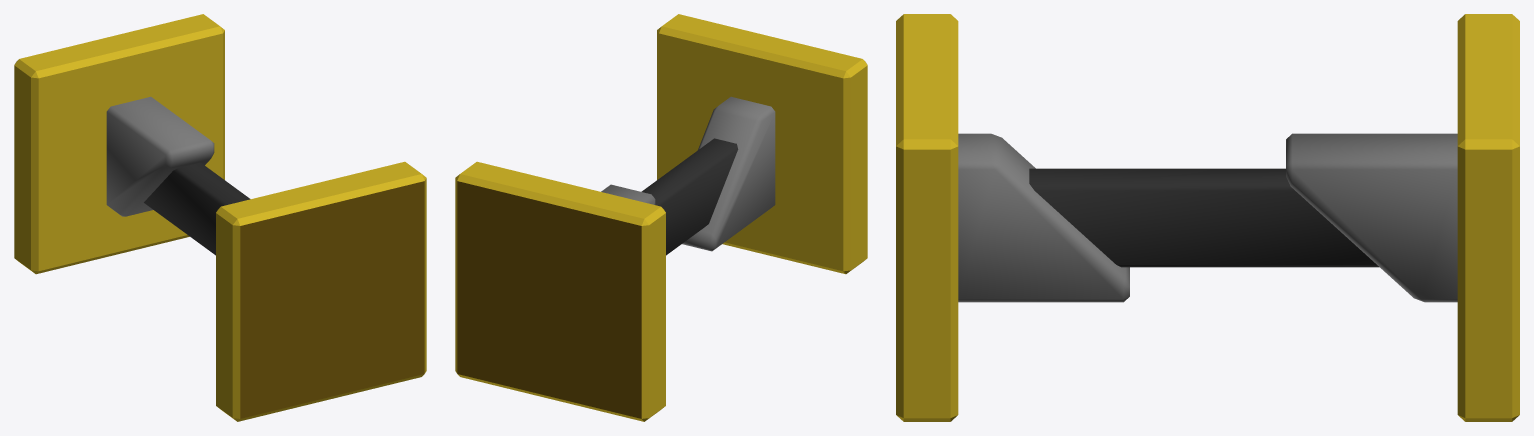
Rendered from Rod2d1.fbx.
The picture shows the model from 3 angles, left to right: view 1: azimuth 30°, elevation 25°; view 2: azimuth 150°, elevation 25°; view 3: azimuth 270°, elevation 25°; orthographic projection. The views are drawn at different scales.
Visible parts, largest first — view 1: Cube.006; view 2: Cube.006; view 3: Cube.006.
Part boxes in pixels (x1,y1,x2,y2): Cube.006: [14, 14, 426, 421]; Cube.006: [455, 14, 867, 421]; Cube.006: [896, 14, 1519, 421].
Size of the model in its own units: 2 by 2 by 4.
